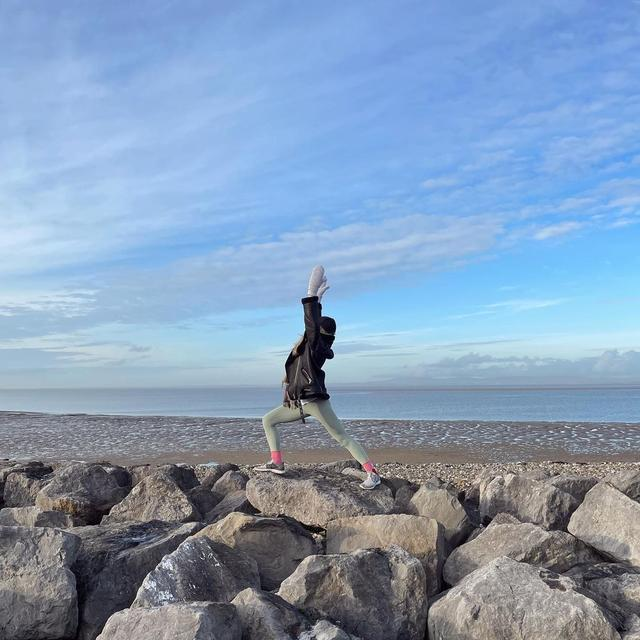Warrior_I: (242, 256, 396, 492)
